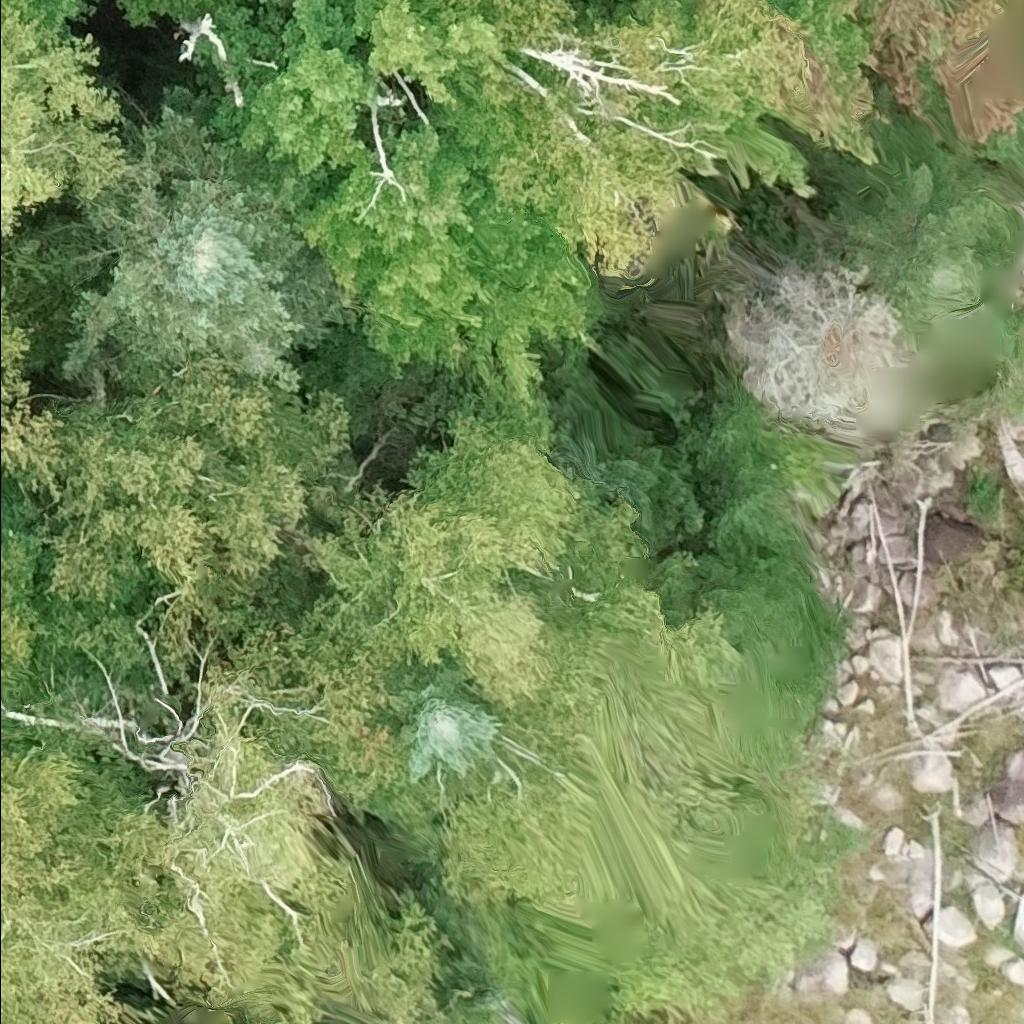crown: (288, 397, 664, 755), (286, 77, 599, 455), (42, 353, 355, 673), (42, 79, 351, 389), (204, 0, 499, 217), (0, 714, 176, 1023), (0, 5, 129, 250), (383, 659, 509, 785), (0, 291, 67, 507), (0, 478, 52, 720), (0, 0, 94, 28), (250, 0, 296, 12), (602, 0, 651, 6)
